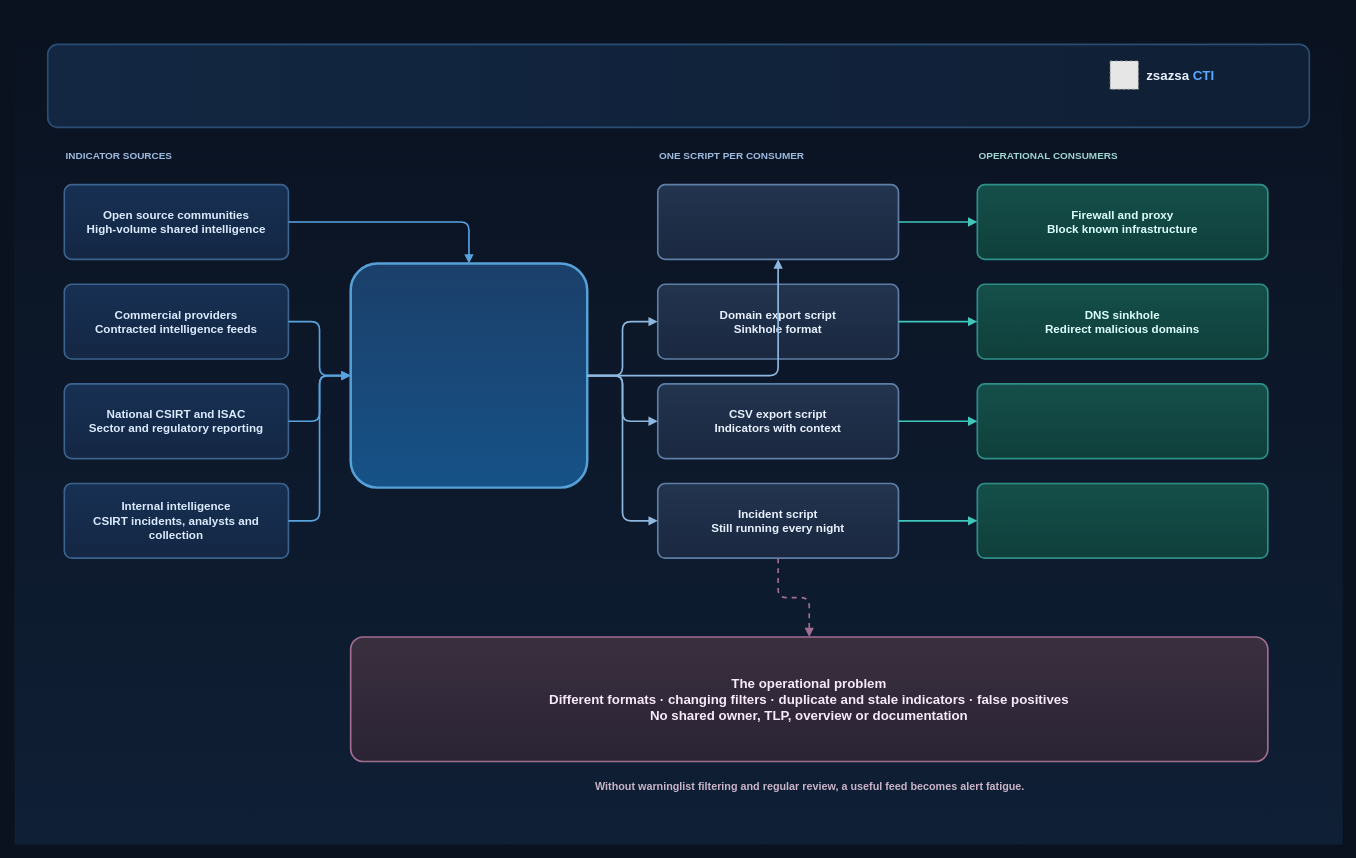
This 1356x858 diagram has some shape labels left out. Grey dashed boxes stand in for pictures. Here are the shapes that lost their labels. From the top down, the box of each, then its label:
(46, 43, 1310, 128): Recurring Indicator Feeds Why separate scripts become difficult to manage
(657, 183, 899, 260): IP export script One value per line
(349, 262, 588, 488): MISP Shared source of truth IP addresses · domains URLs · file hashes
(976, 383, 1268, 459): SIEM and detection engineering Detect and enrich activity
(976, 482, 1268, 559): Threat hunting and CSIRT Search history and enrich incidents
